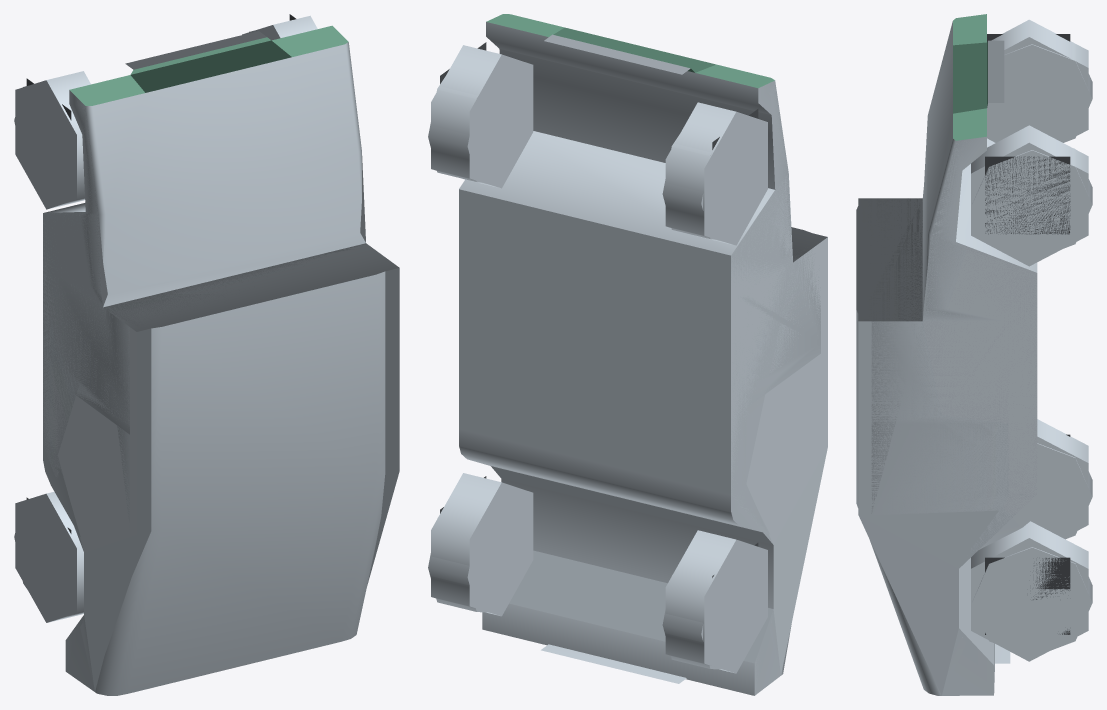
File: hmmv.glb
The picture shows the model from 3 angles, left to right: view 1: azimuth 30°, elevation 25°; view 2: azimuth 150°, elevation 25°; view 3: azimuth 270°, elevation 25°; orthographic projection. The views are drawn at different scales.
Size of the model in its own units: 2.91 by 6.19 by 2.35.
